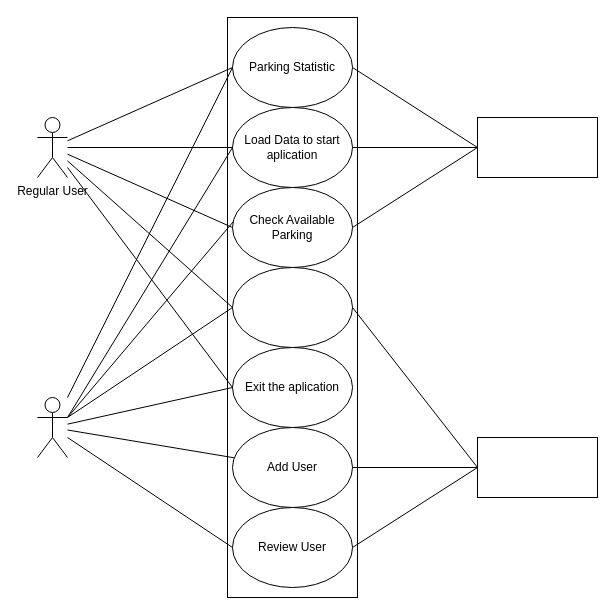
The diagram is 615 pixels wide and 615 high, and some of its shapes have lost their labels. Here are the shapes that lost their labels. From the top down, the centre of each, then its label:
[537,147]: Server
[292,307]: Login On the aplication
[52,427]: Administrator
[537,467]: Local Database
